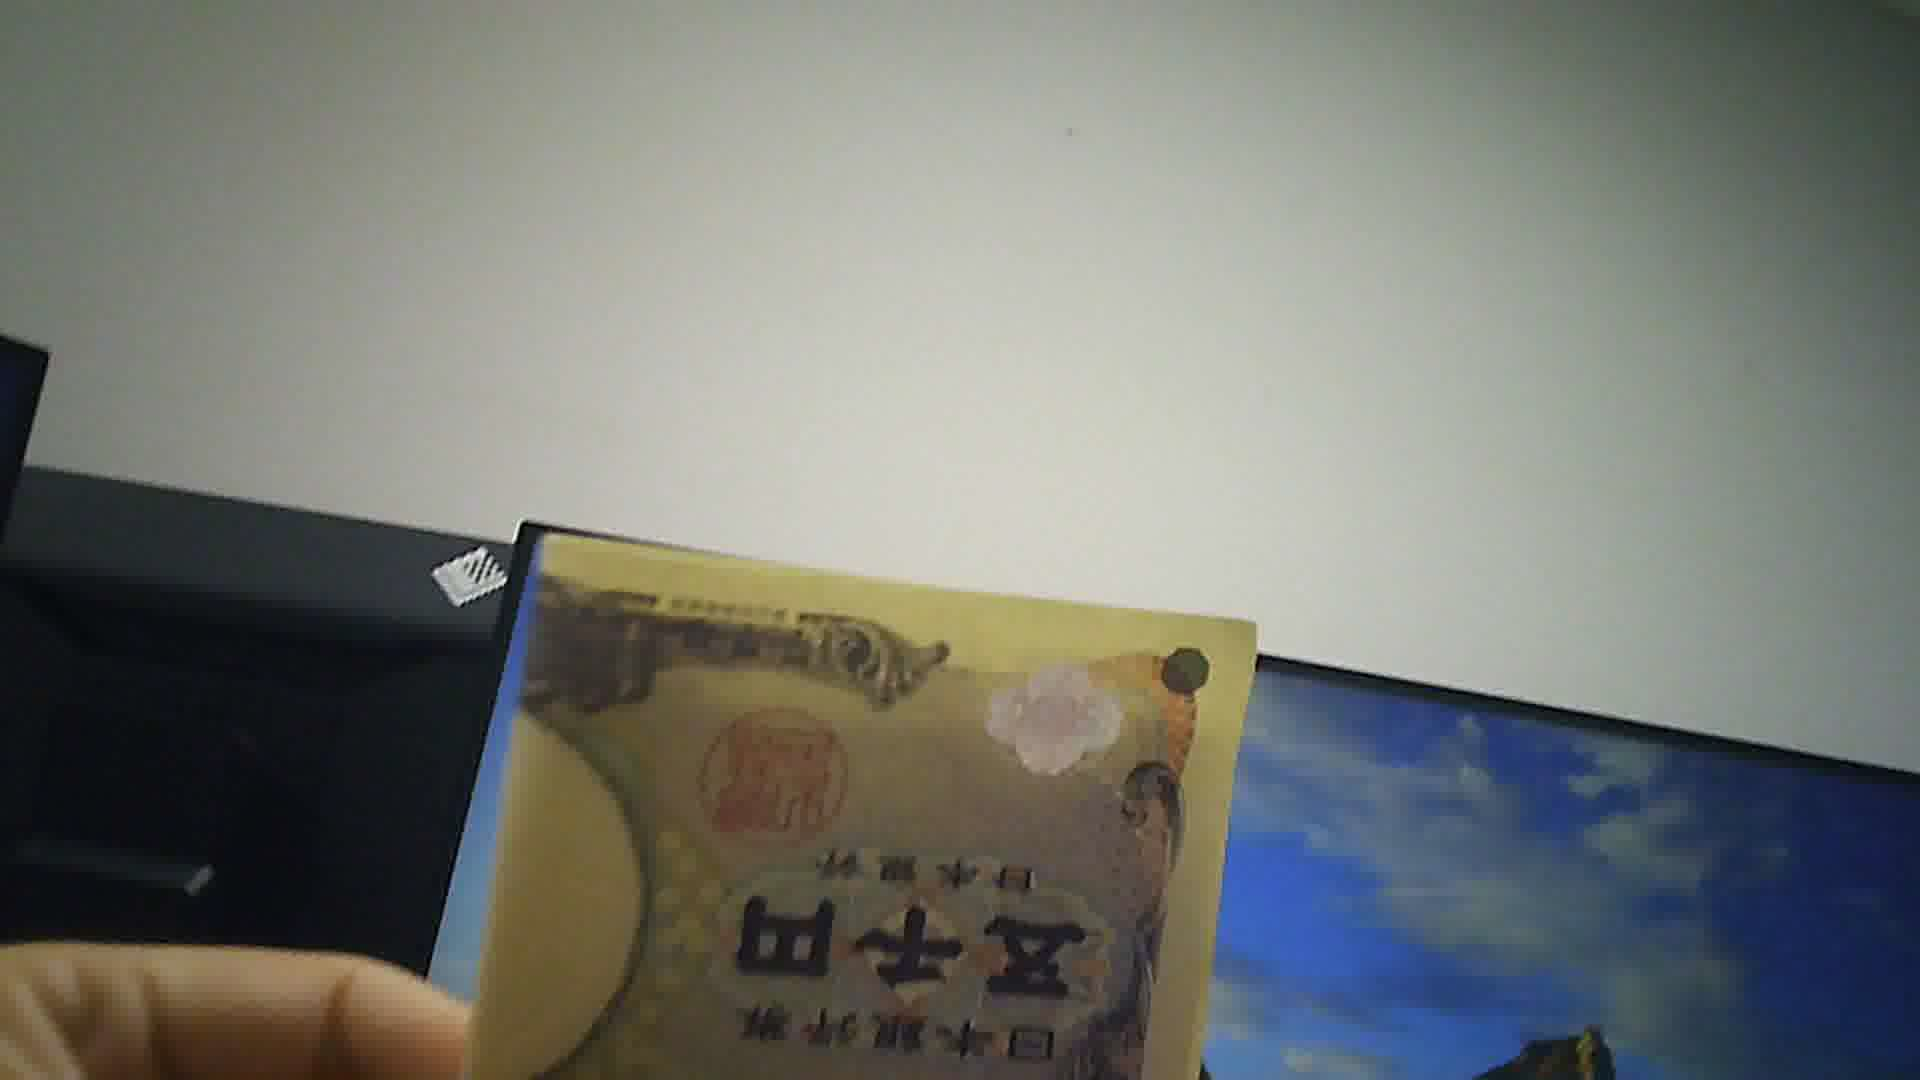5,000 Yen: (491, 525, 1242, 1079)
